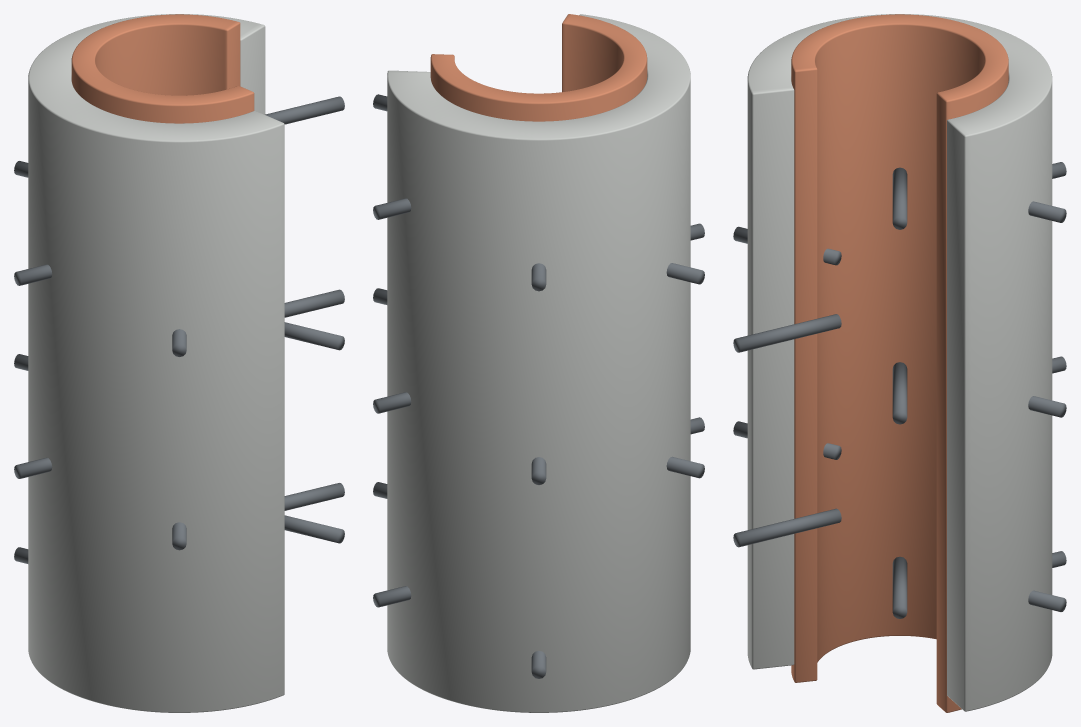
File: perforations.glb
3 renders of one model, left to right at view 1: azimuth 30°, elevation 25°; view 2: azimuth 150°, elevation 25°; view 3: azimuth 270°, elevation 25°, orthographic.
Visible parts, largest first — view 1: Cement sheath, Perforated casing, Perf tunnel 0, Perf tunnel 6, Perf tunnel 5, Perf tunnel 11, Perf tunnel 12, Perf tunnel 9, Perf tunnel 3; view 2: Cement sheath, Perforated casing, Perf tunnel 1, Perf tunnel 9, Perf tunnel 13, Perf tunnel 3, Perf tunnel 7; view 3: Perforated casing, Cement sheath, Perf tunnel 5, Perf tunnel 11, Perf tunnel 6, Perf tunnel 12, Perf tunnel 0, Perf tunnel 7, Perf tunnel 1, Perf tunnel 13.
Part boxes in pixels (box(x1,y1,x2,y2)): Cement sheath: box(28, 14, 284, 712); Perforated casing: box(71, 14, 254, 123); Perf tunnel 0: box(265, 96, 344, 124); Perf tunnel 6: box(284, 289, 344, 317); Perf tunnel 5: box(284, 322, 344, 350); Perf tunnel 11: box(284, 515, 344, 543); Perf tunnel 12: box(284, 483, 344, 510); Perf tunnel 9: box(14, 457, 52, 478); Perf tunnel 3: box(14, 264, 52, 285); Cement sheath: box(387, 14, 690, 712); Perforated casing: box(430, 14, 647, 121); Perf tunnel 1: box(373, 198, 411, 219); Perf tunnel 9: box(666, 456, 704, 478); Perf tunnel 13: box(373, 586, 411, 607); Perf tunnel 3: box(666, 263, 704, 284); Perf tunnel 7: box(373, 392, 411, 413); Perforated casing: box(791, 14, 1008, 712); Cement sheath: box(747, 14, 1052, 711); Perf tunnel 5: box(733, 314, 841, 352); Perf tunnel 11: box(733, 508, 841, 547); Perf tunnel 6: box(892, 362, 907, 424); Perf tunnel 12: box(892, 556, 907, 618); Perf tunnel 0: box(892, 167, 907, 229); Perf tunnel 7: box(1028, 396, 1066, 417); Perf tunnel 1: box(1028, 201, 1066, 222); Perf tunnel 13: box(1028, 590, 1066, 611).
Bounding box in the file's own units: 2.84 × 5.1 × 2.51.
